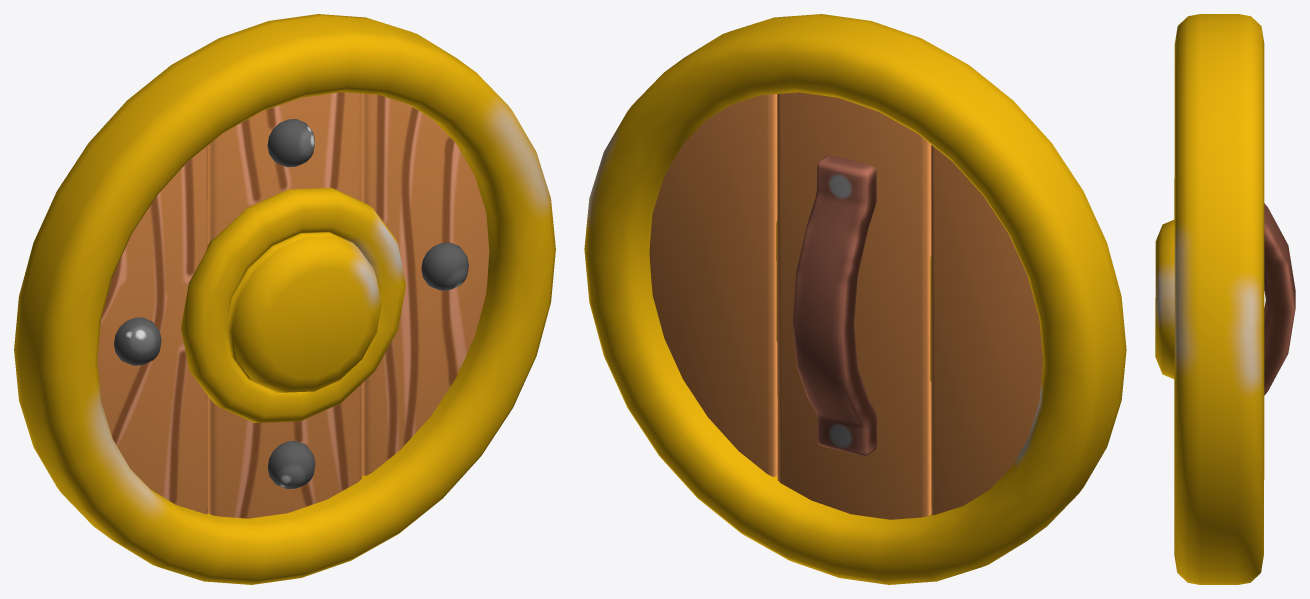
File: shield.fbx
3 renders of one model, left to right at view 1: azimuth 30°, elevation 25°; view 2: azimuth 150°, elevation 25°; view 3: azimuth 270°, elevation 25°, orthographic. The views are drawn at different scales.
Visible parts, largest first — view 1: shield; view 2: shield; view 3: shield.
Part boxes in pixels (x1=…): shield: x1=14, y1=14, x2=555, y2=584; shield: x1=584, y1=14, x2=1126, y2=584; shield: x1=1155, y1=14, x2=1295, y2=584.
Bounding box in the file's own units: 185 × 185 × 45.31.
1 material, 1 textured.
